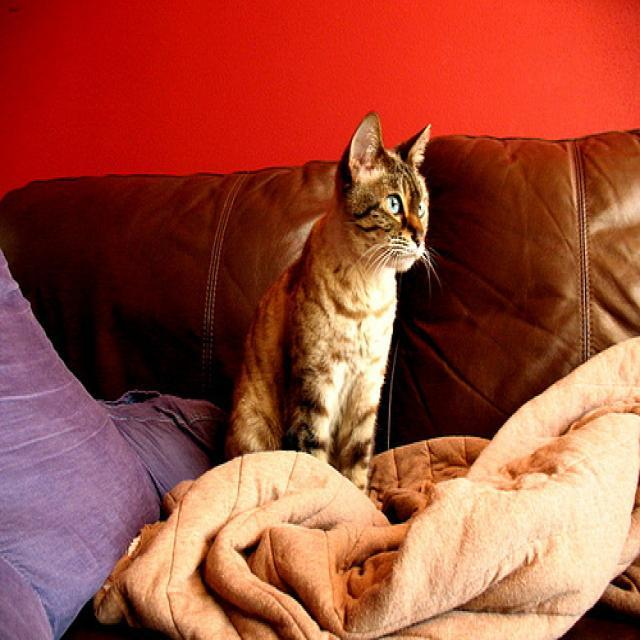Bengal: (334, 107, 434, 279)
